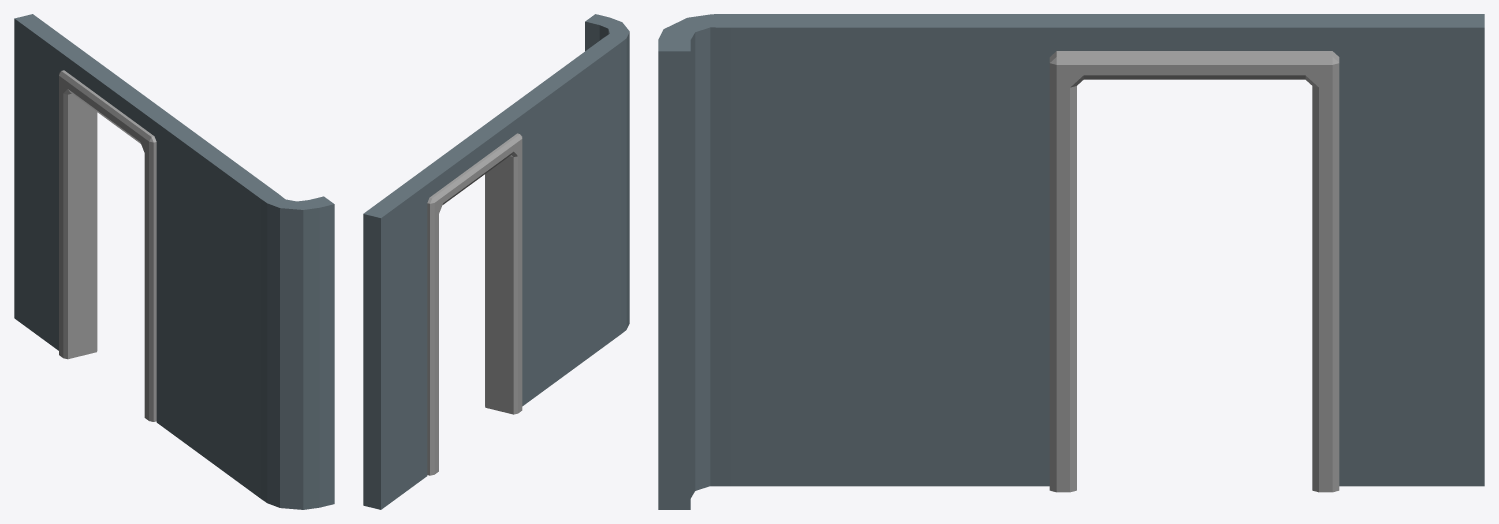
File: Wall with door gap.fbx
3 views of the same model, side by side, from view 1: azimuth 30°, elevation 25°; view 2: azimuth 150°, elevation 25°; view 3: azimuth 270°, elevation 25° (orthographic). The views are drawn at different scales.
Parts seen in each view (by area): view 1: pCube275, pCube278; view 2: pCube275, pCube278; view 3: pCube275, pCube278.
Part boxes in pixels (bbox=[...]): pCube275: bbox=[14, 14, 334, 509]; pCube278: bbox=[59, 70, 156, 421]; pCube275: bbox=[363, 14, 629, 509]; pCube278: bbox=[427, 133, 522, 475]; pCube275: bbox=[658, 14, 1484, 509]; pCube278: bbox=[1049, 51, 1339, 492].
Bounding box in the file's own units: 26.76 × 139 × 227.
